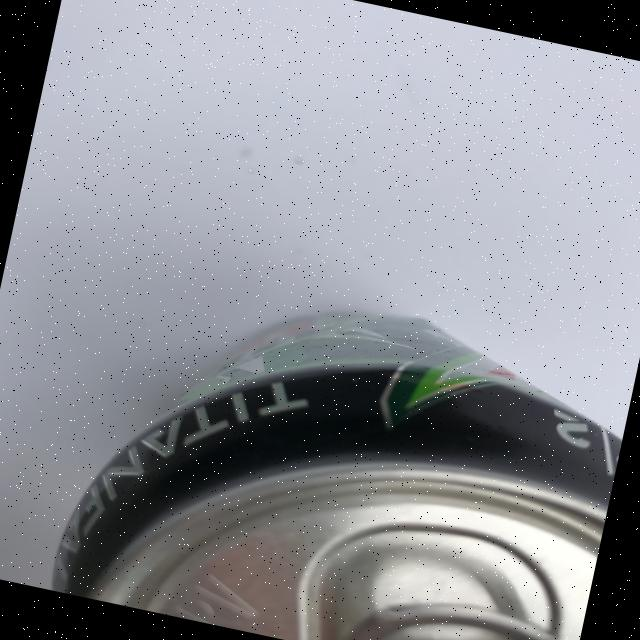metal: (47, 251, 637, 640)
